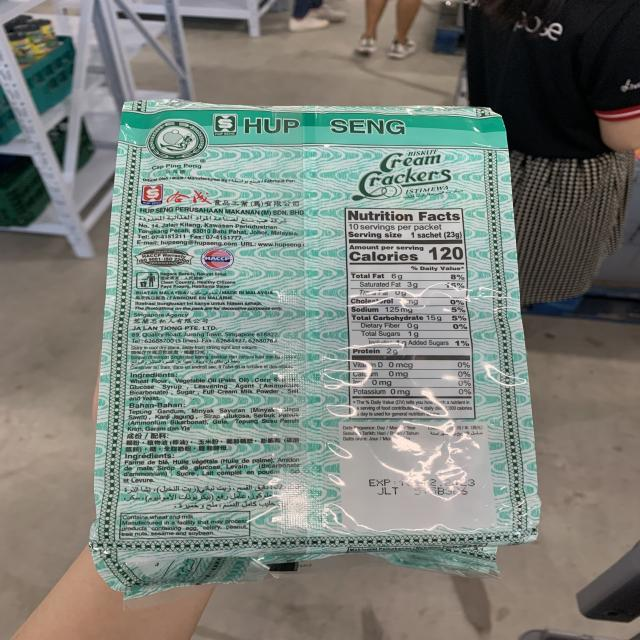object_name: (122, 104, 520, 555)
